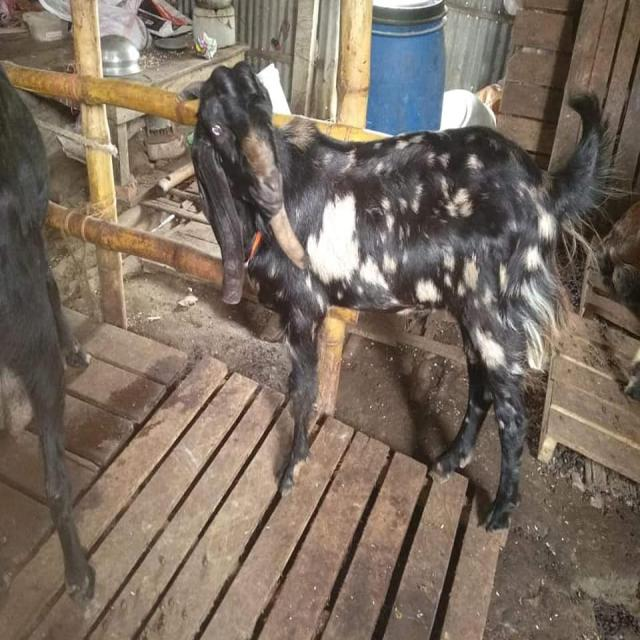not_pig: (176, 59, 626, 532), (0, 60, 96, 605)
